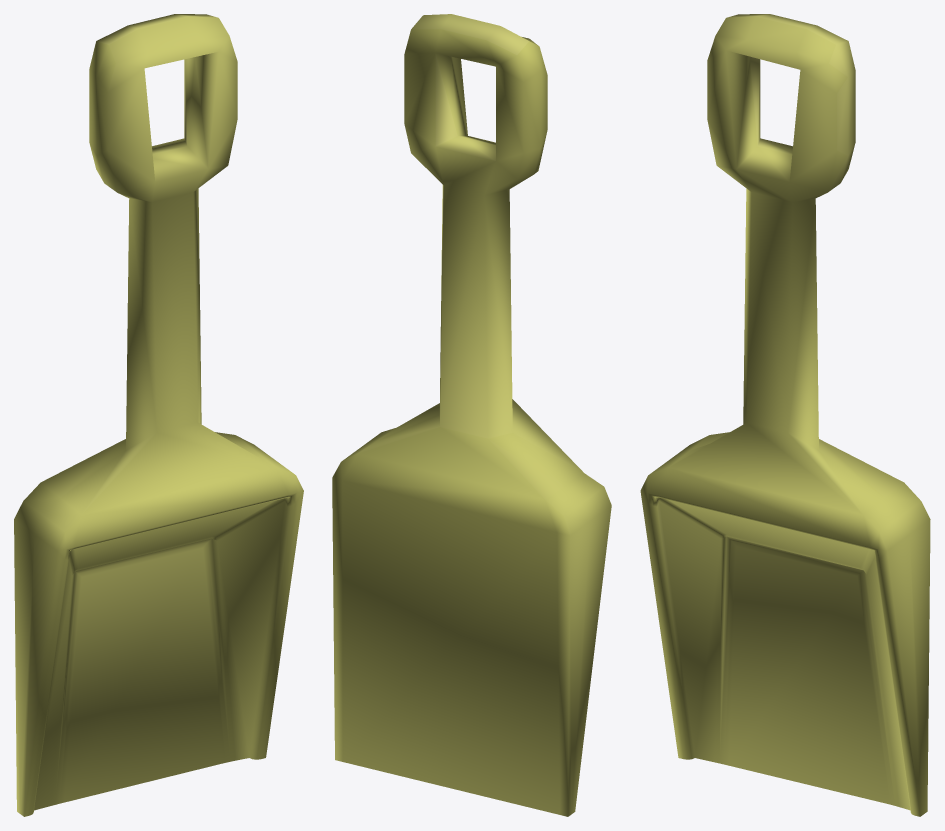
Rendered from 3shovel.fbx.
3 views of the same model, side by side, from view 1: azimuth 30°, elevation 25°; view 2: azimuth 150°, elevation 25°; view 3: azimuth 330°, elevation 25° (orthographic). The views are drawn at different scales.
Parts seen in each view (by area): view 1: shovel3; view 2: shovel3; view 3: shovel3.
Part boxes in pixels (left/top/right/bottom): shovel3: left=14, top=14, right=303, bottom=816; shovel3: left=332, top=14, right=611, bottom=816; shovel3: left=640, top=14, right=930, bottom=816.
Bounding box in the file's own units: 0.1428 × 0.4306 × 0.0455.
